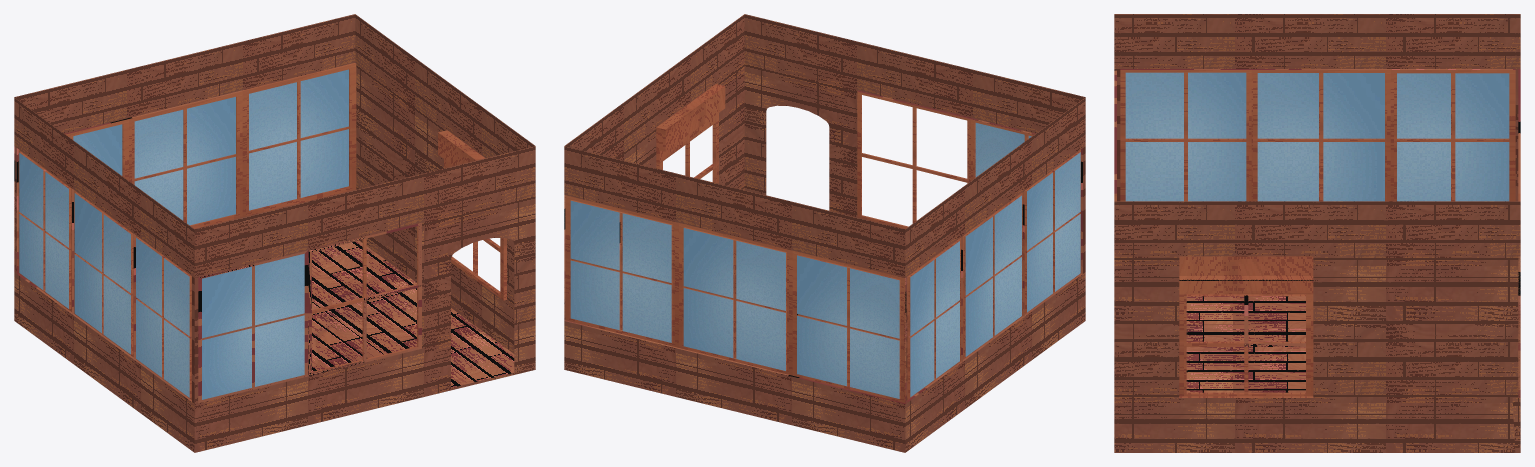
The model's file is Escenario.glb.
The picture shows the model from 3 angles, left to right: view 1: azimuth 30°, elevation 25°; view 2: azimuth 150°, elevation 25°; view 3: azimuth 270°, elevation 25°; orthographic projection. The views are drawn at different scales.
Visible parts, largest first — view 1: Escenario; view 2: Escenario; view 3: Escenario.
Part boxes in pixels (x1,y1,x2,y2): Escenario: (14, 14, 535, 452); Escenario: (564, 14, 1085, 452); Escenario: (1114, 14, 1520, 452).
Size of the model in its own units: 54.03 by 33.87 by 49.52.
4 materials, 4 textured.
